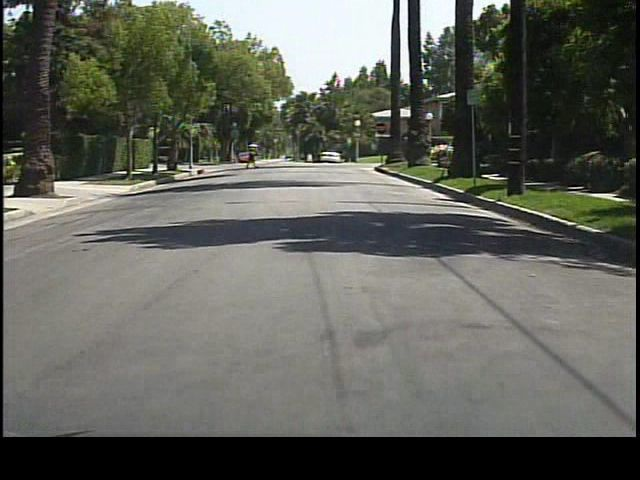person: (246, 138, 261, 170)
